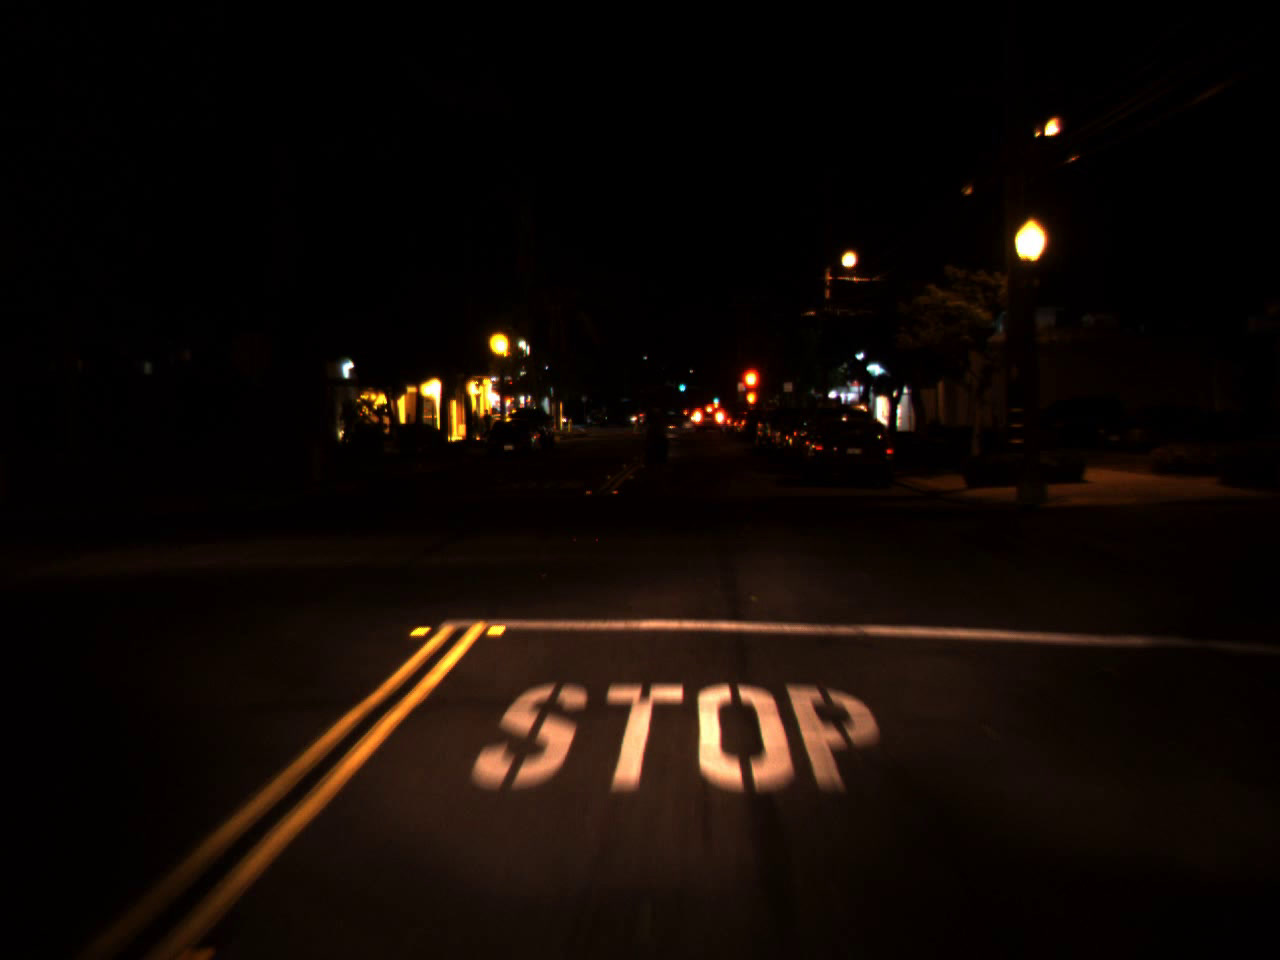go: (678, 377, 685, 392), (712, 390, 719, 402)
stop: (737, 365, 762, 413)
